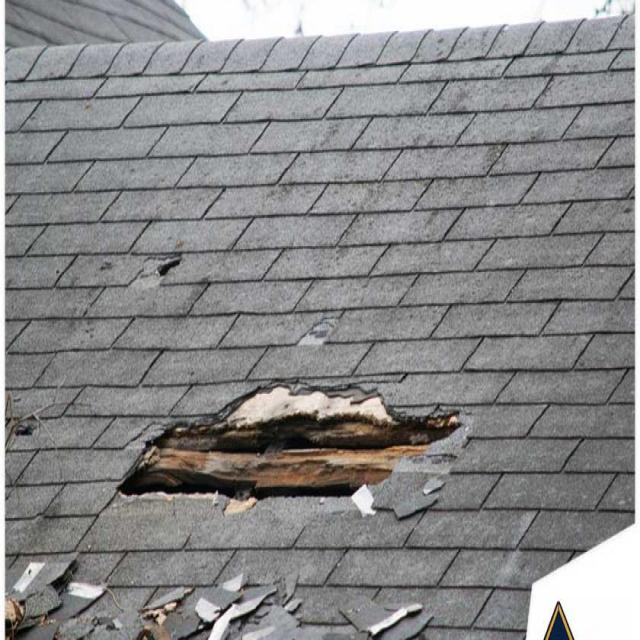damaged_roof: (116, 370, 472, 529), (8, 554, 435, 640), (147, 248, 190, 299), (6, 403, 42, 446)
